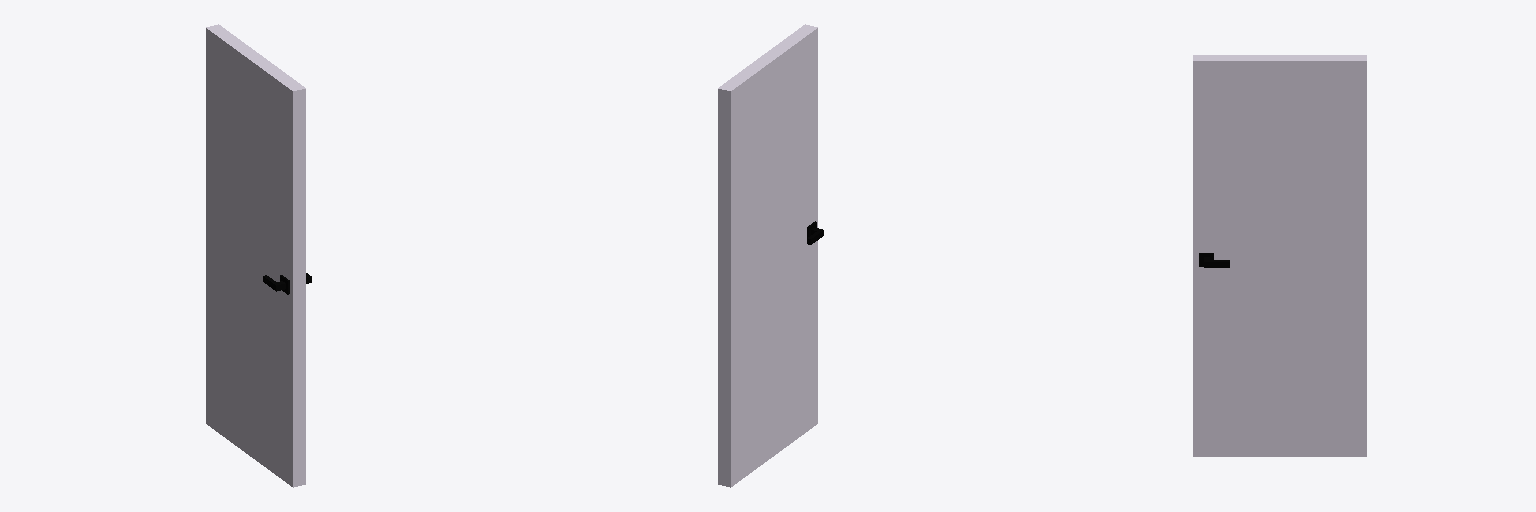
File: door801_white.obj
3 views of the same model, side by side, from view 1: azimuth 30°, elevation 25°; view 2: azimuth 150°, elevation 25°; view 3: azimuth 270°, elevation 25° (orthographic).
Parts seen in each view (by area): view 1: Cube; view 2: Cube; view 3: Cube.
Part boxes in pixels (bbox=[...]): Cube: bbox=[206, 24, 311, 487]; Cube: bbox=[718, 24, 823, 487]; Cube: bbox=[1193, 55, 1366, 456].
Size of the model in its own units: 0.1899 by 2 by 0.8003.